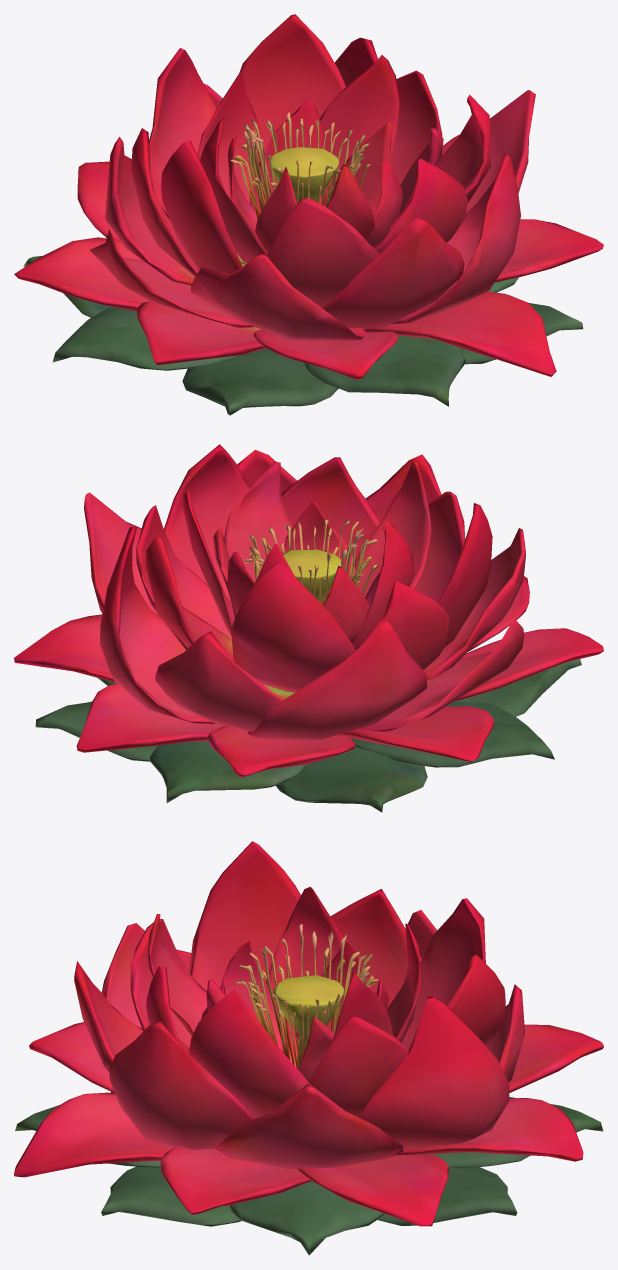
File: SM_Lotus_M_SM_Lotus_M_9b6d22.glb
3 renders of one model, top to bottom at view 1: azimuth 30°, elevation 25°; view 2: azimuth 150°, elevation 25°; view 3: azimuth 270°, elevation 25°, orthographic. The views are drawn at different scales.
Size of the model in its own units: 1.64 by 0.8174 by 1.64.
Materials: 1 (1 with a texture image).
